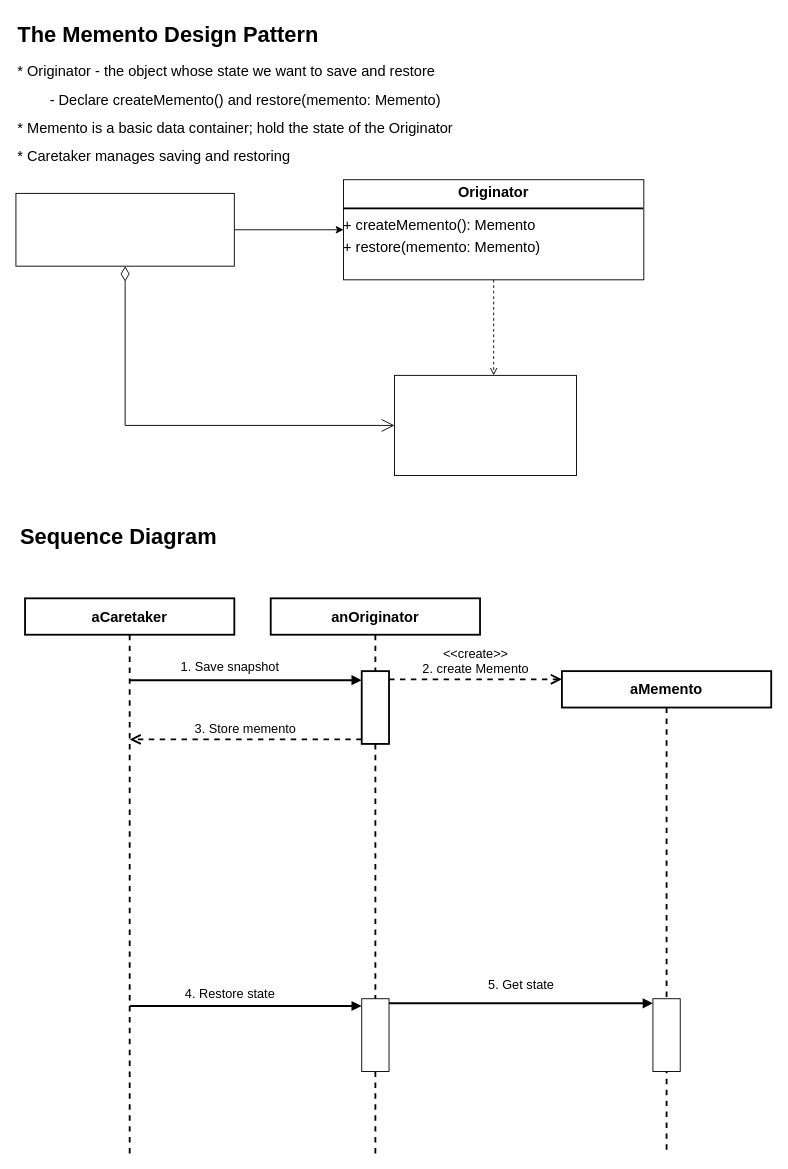
This 788x1169 diagram has some shape labels left out. The shapes that lost their labels are listed below. From the top down, each one's centre as x and y in pixels, then its label:
At pixel 124 229: "Caretaker".
At pixel 485 424: "Memento +state: <T>".
